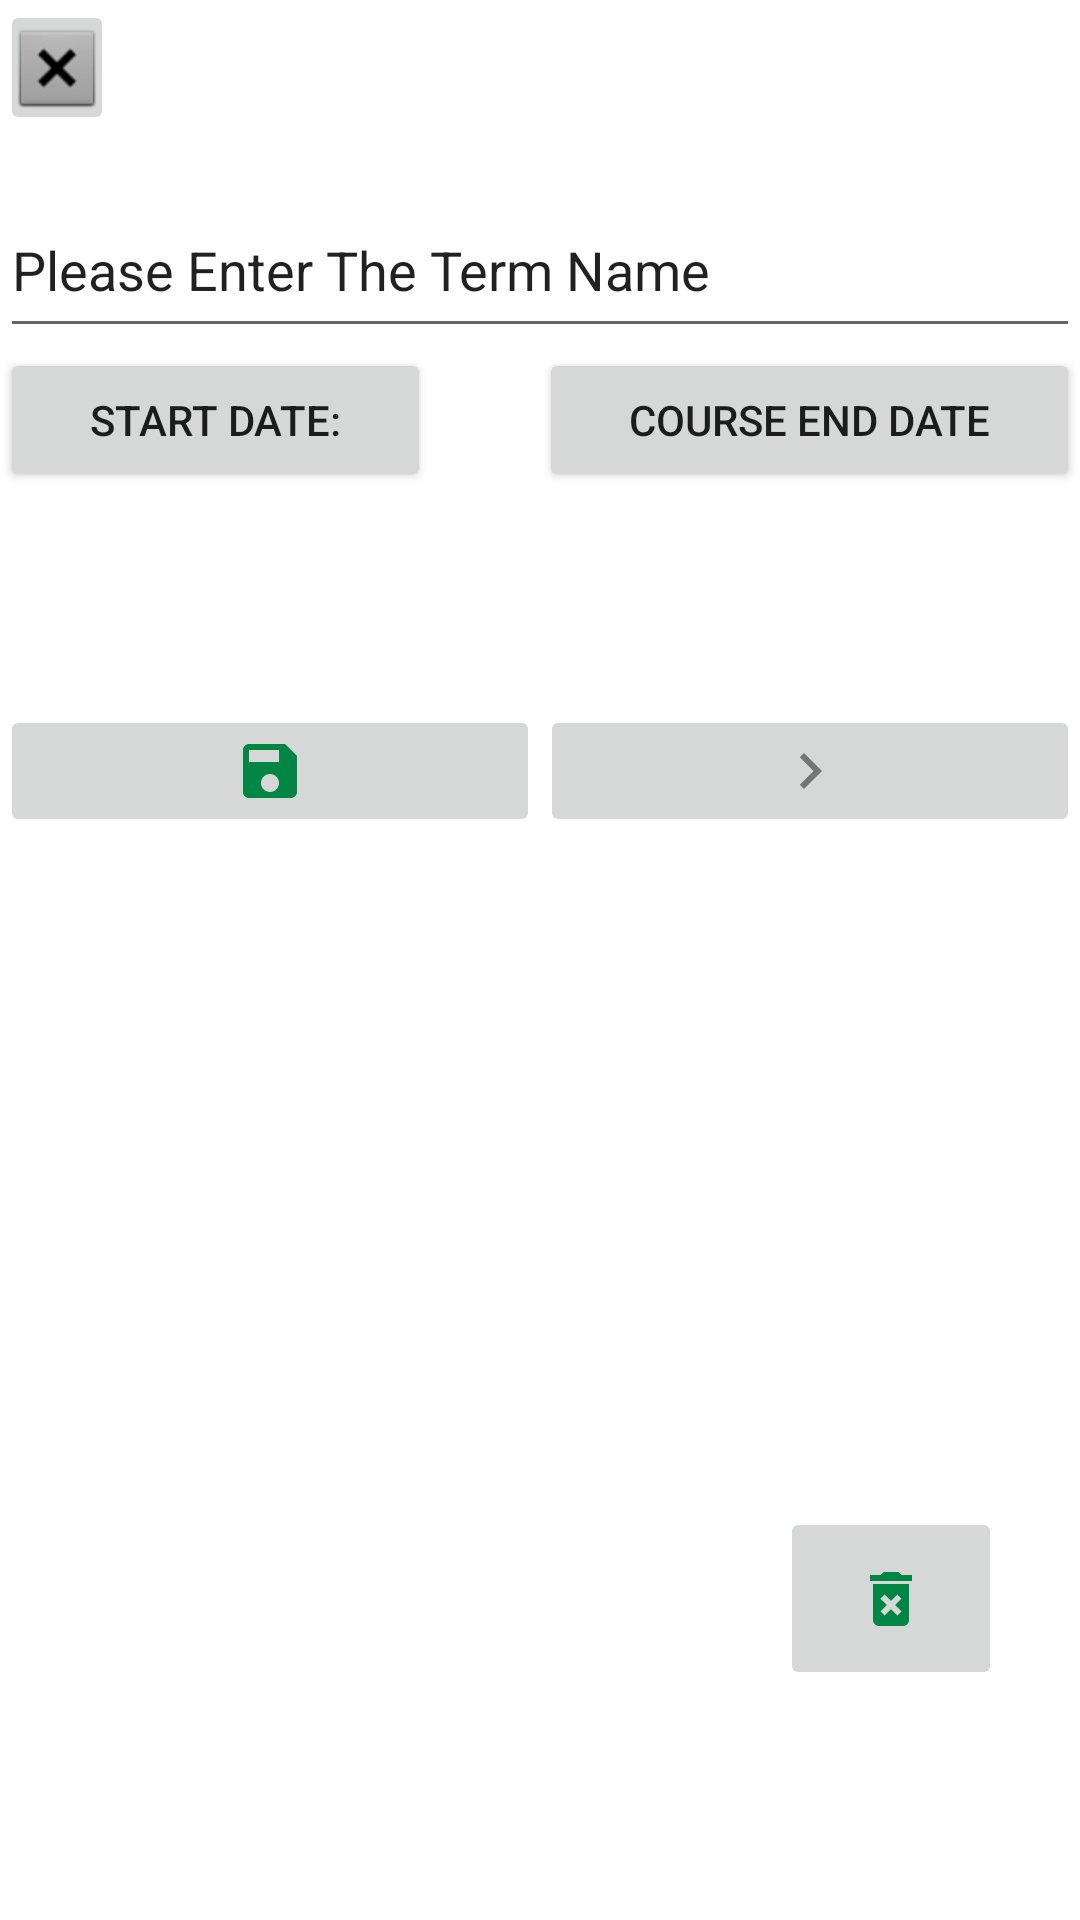

Named icons in this screenshot (1080*1920) and their centers, (x,y):
delete forever: (891,1598)
